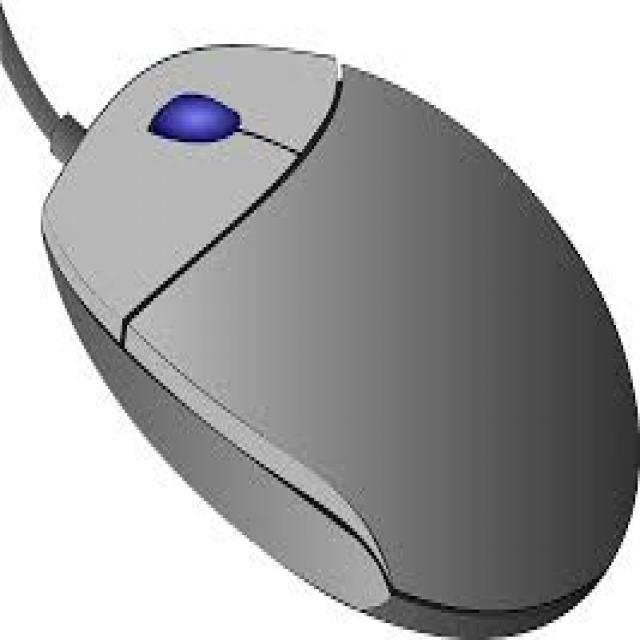others: (5, 4, 640, 636)
